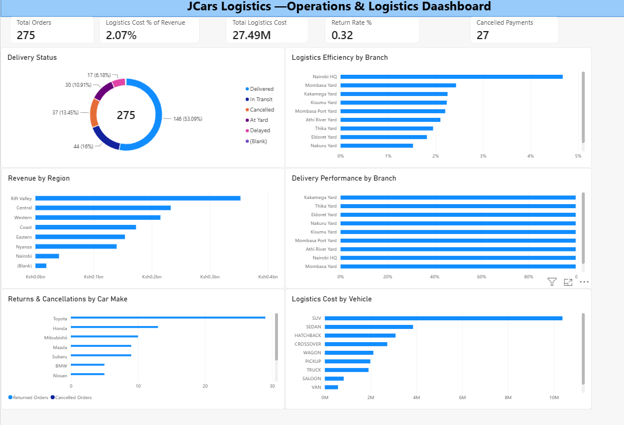

The dashboard page shown, as its layout file describes it:
{"tool":"powerbi","page":{"name":"Operations & Logistics Performance","canvas":[1920,1080],"ordinal":3},"visuals":[{"type":"cardVisual","fields":{"Data":["Fact_Sales.Logistics Cost % of Revenue"]},"box":[244.3,57.1,250,65.7],"z":0},{"type":"cardVisual","fields":{"Data":["Fact_Sales.Return Rate %"]},"box":[804.3,57.1,235.7,65.7],"z":1000},{"type":"cardVisual","fields":{"Data":["Fact_Sales.Total Logistics Cost"]},"box":[558.6,57.1,205.7,65.7],"z":2000},{"type":"shape","box":[0,0,1681.2,57.5],"z":3000},{"type":"cardVisual","fields":{"Data":["Fact_Sales.Cancelled Payments"]},"box":[1164.3,57.1,221.4,65.7],"z":4000},{"type":"cardVisual","fields":{"Data":["Fact_Sales.Total Orders"]},"box":[22.9,57.1,210,65.7],"z":5000},{"type":"donutChart","title":"Delivery Status","fields":{"Category":["Fact_Sales.Delivery Status Clean"],"Y":["Fact_Sales.Total Orders"]},"box":[0,132.9,705.7,300],"z":6000},{"type":"clusteredBarChart","title":"Logistics Efficiency by Branch","fields":{"Category":["Fact_Sales.Branch Clean"],"Y":["Fact_Sales.Logistics Cost % of Revenue"]},"box":[705.7,132.9,761.4,300],"z":7000},{"type":"clusteredBarChart","title":"Revenue by Region","fields":{"Category":["Dim_Geography.Region Clean"],"Y":["Fact_Sales.Total Revenue"]},"box":[1.4,432.9,704.3,300],"z":8000},{"type":"hundredPercentStackedBarChart","title":"Delivery Performance by Branch","fields":{"Category":["Fact_Sales.Branch Clean"],"Y":["Fact_Sales.Total Orders"]},"box":[705.7,432.9,761.4,300],"z":9000},{"type":"clusteredBarChart","title":"Returns & Cancellations by Car Make","fields":{"Category":["Fact_Sales.Car Make Clean"],"Y":["Fact_Sales.Returned Orders","Fact_Sales.Cancelled Orders"]},"box":[1.4,732.9,704.3,300],"z":10000},{"type":"clusteredBarChart","title":"Logistics Cost by Vehicle","fields":{"Category":["Fact_Sales.Vehicle Type"],"Y":["Fact_Sales.Total Logistics Cost"]},"box":[705.7,732.9,761.4,300],"z":11000}]}

Visuals, with their boxes on the page's 1920x1080 design canvas (x1, y1, x2, y2). These are canvas units, not pixel positions in the 624x425 screenshot, which may show the page scaled, cropped or inside an application window:
cardVisual - Fact_Sales.Logistics Cost % of Revenue: 244, 57, 494, 123
cardVisual - Fact_Sales.Return Rate %: 804, 57, 1040, 123
cardVisual - Fact_Sales.Total Logistics Cost: 559, 57, 764, 123
shape: 0, 0, 1681, 58
cardVisual - Fact_Sales.Cancelled Payments: 1164, 57, 1386, 123
cardVisual - Fact_Sales.Total Orders: 23, 57, 233, 123
"Delivery Status" donutChart: 0, 133, 706, 433
"Logistics Efficiency by Branch" clusteredBarChart: 706, 133, 1467, 433
"Revenue by Region" clusteredBarChart: 1, 433, 706, 733
"Delivery Performance by Branch" hundredPercentStackedBarChart: 706, 433, 1467, 733
"Returns & Cancellations by Car Make" clusteredBarChart: 1, 733, 706, 1033
"Logistics Cost by Vehicle" clusteredBarChart: 706, 733, 1467, 1033
